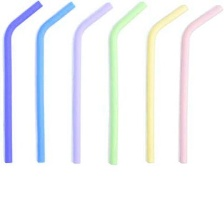drinking_straw: (25, 0, 78, 165), (172, 0, 224, 166), (104, 0, 151, 167)
